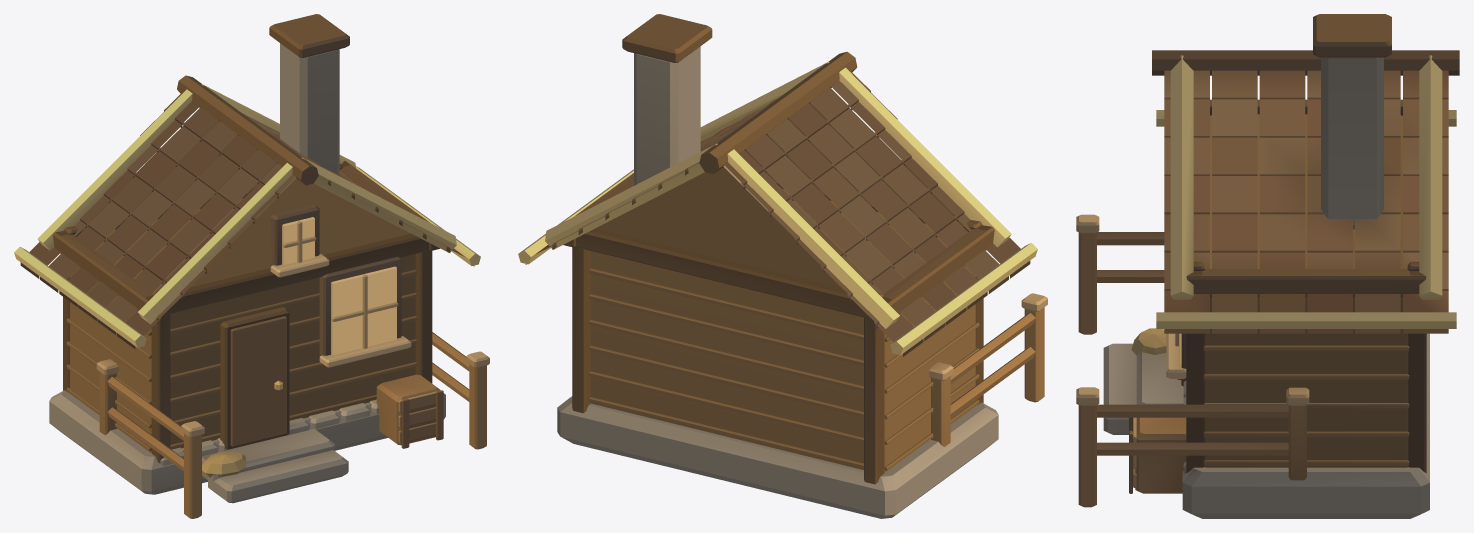
The model's file is farm_hutch.glb.
3 renders of one model, left to right at view 1: azimuth 30°, elevation 25°; view 2: azimuth 150°, elevation 25°; view 3: azimuth 270°, elevation 25°, orthographic. The views are drawn at different scales.
Visible parts, largest first — view 1: farm_hutch; view 2: farm_hutch; view 3: farm_hutch.
Part boxes in pixels (box(x1,y1,x2,y2)): farm_hutch: box(14, 14, 489, 518); farm_hutch: box(518, 14, 1047, 518); farm_hutch: box(1076, 14, 1459, 518).
Bounding box in the file's own units: 3.45 × 3.47 × 2.66.
